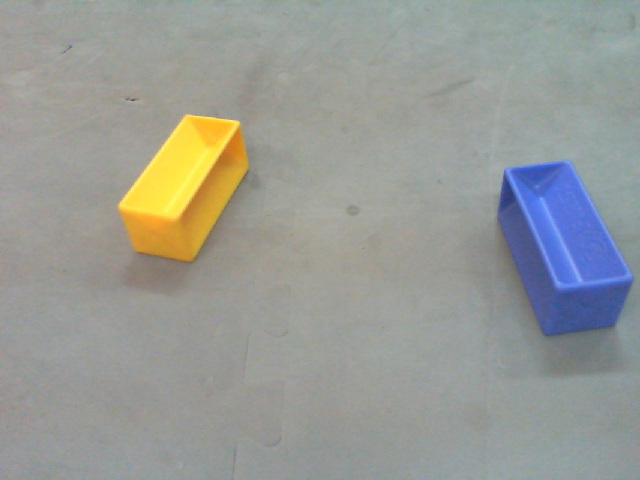BlueSample: (493, 160, 633, 343)
YellowSample: (115, 109, 254, 268)
